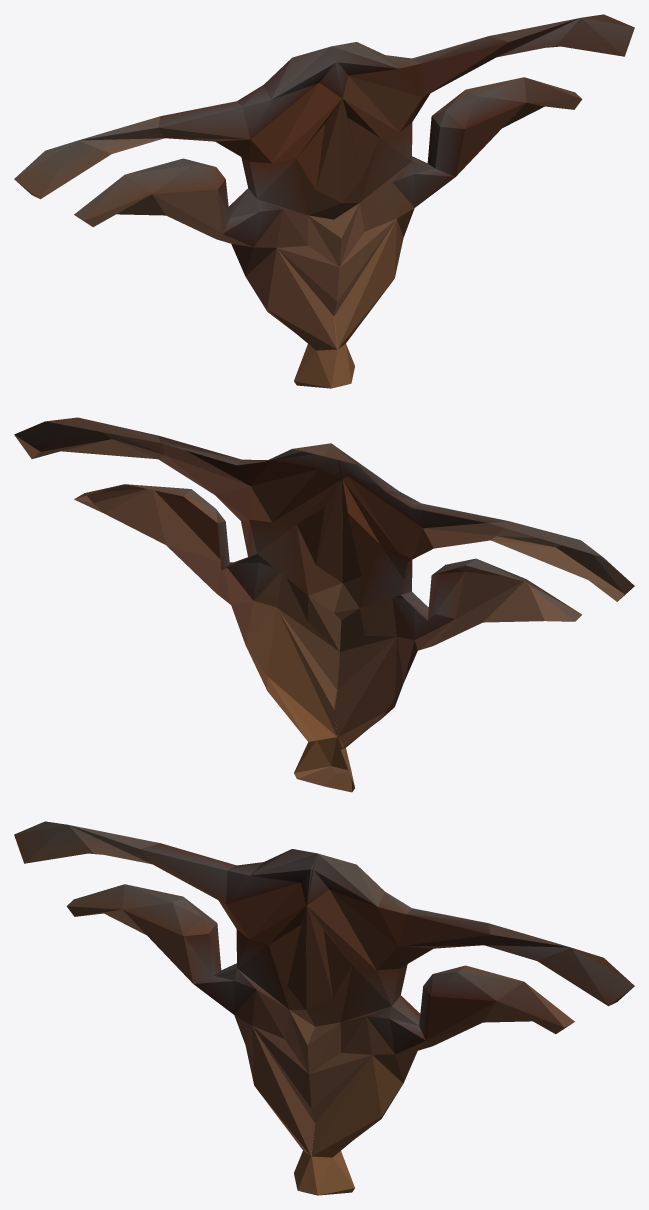
Rendered from Prop_CarvingE.fbx.
The picture shows the model from 3 angles, top to bottom: view 1: azimuth 30°, elevation 25°; view 2: azimuth 150°, elevation 25°; view 3: azimuth 330°, elevation 25°; orthographic projection.
Visible parts, largest first — view 1: Prop_CarvingE; view 2: Prop_CarvingE; view 3: Prop_CarvingE.
Part boxes in pixels (bbox=[...]): Prop_CarvingE: bbox=[14, 14, 634, 388]; Prop_CarvingE: bbox=[14, 417, 634, 792]; Prop_CarvingE: bbox=[14, 821, 634, 1195].
Size of the model in its own units: 166 by 86.33 by 8.47.
